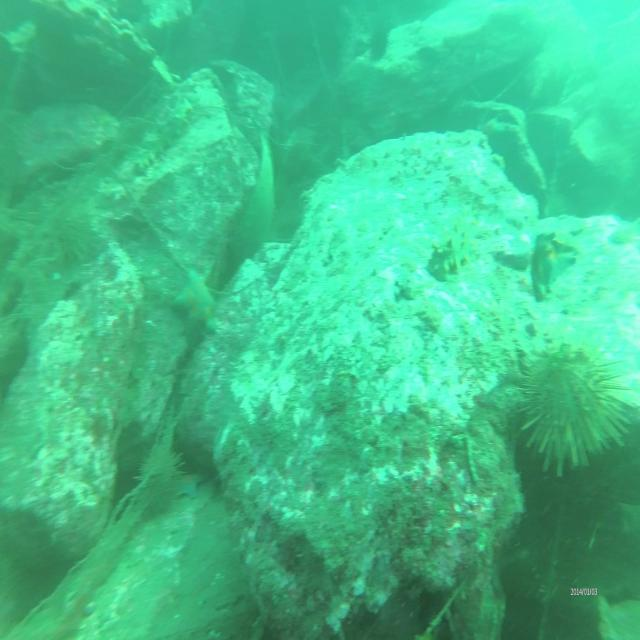echinus: (512, 338, 632, 475), (130, 444, 187, 517), (50, 208, 96, 265)
holothurian: (430, 214, 478, 284)
starfish: (170, 265, 218, 339)
